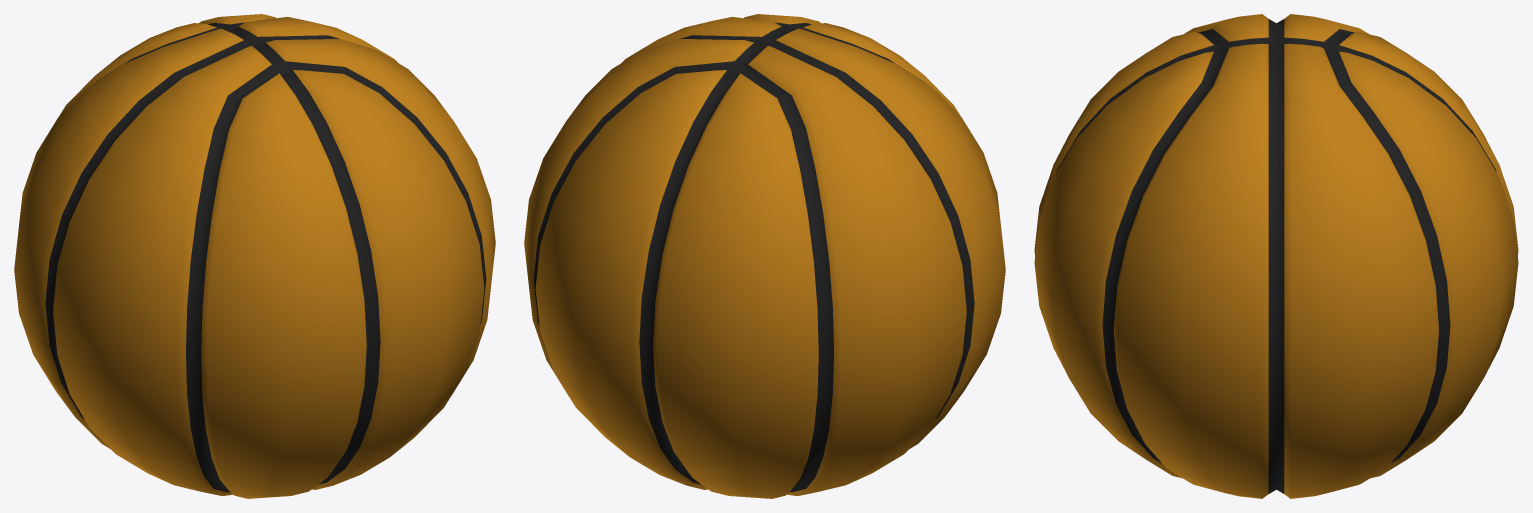
Rendered from Entity_BasketBall.FBX.
3 renders of one model, left to right at view 1: azimuth 30°, elevation 25°; view 2: azimuth 150°, elevation 25°; view 3: azimuth 270°, elevation 25°, orthographic.
Parts seen in each view (by area): view 1: BasketBall; view 2: BasketBall; view 3: BasketBall.
Part boxes in pixels (box(x1,y1,x2,y2)): BasketBall: box(14, 14, 495, 498); BasketBall: box(524, 14, 1005, 498); BasketBall: box(1034, 14, 1518, 498).
Size of the model in its own units: 61.62 by 61.5 by 61.62.
